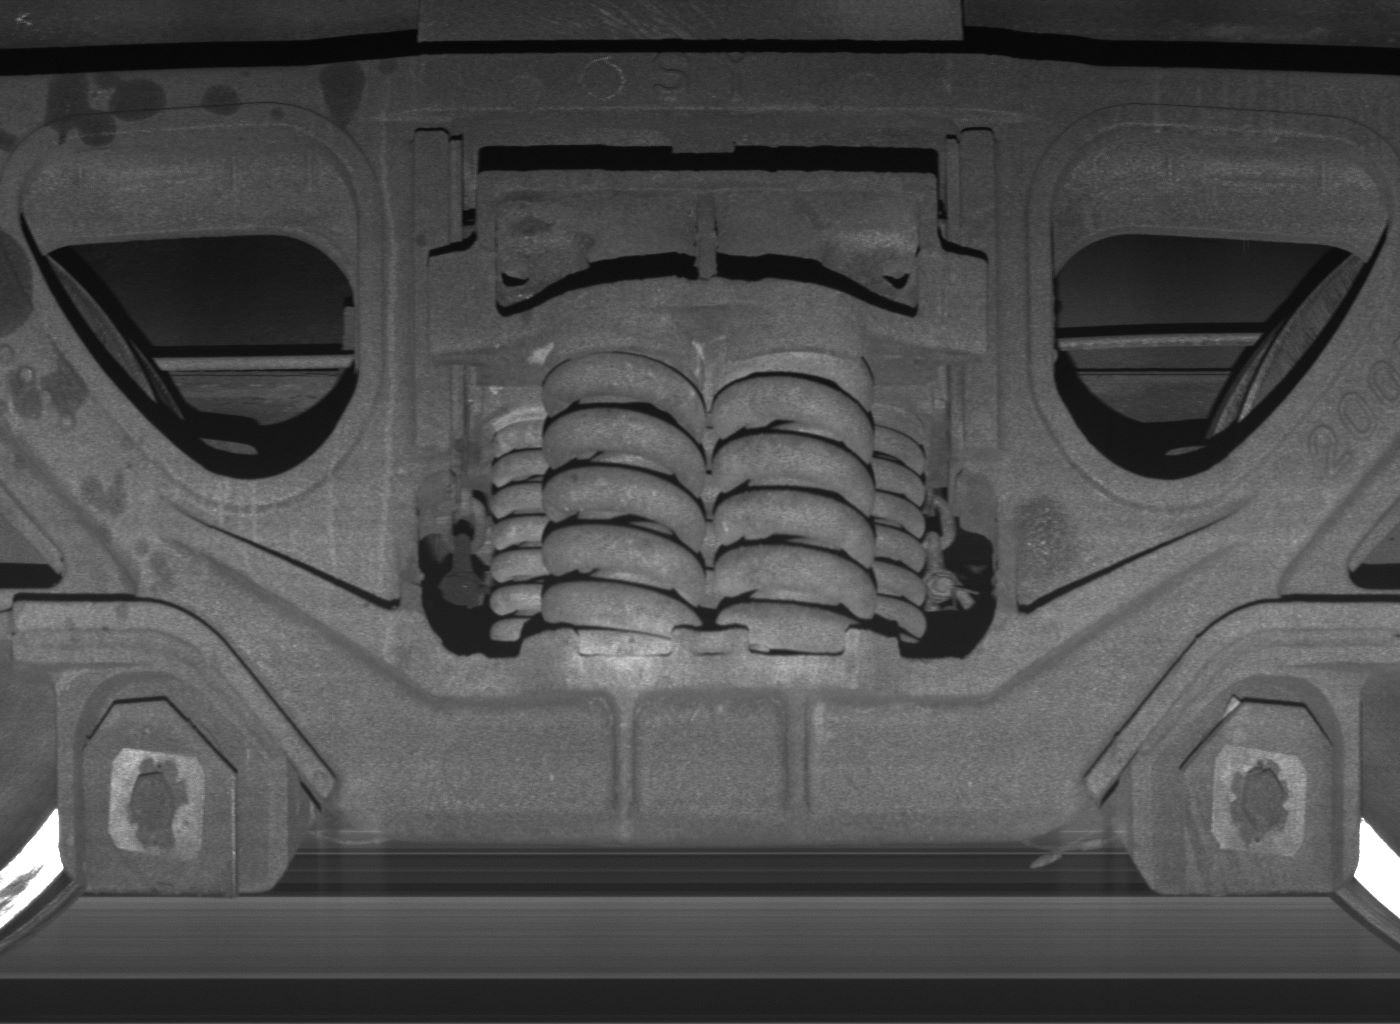normal: (1127, 676, 1362, 892), (58, 674, 285, 895)
